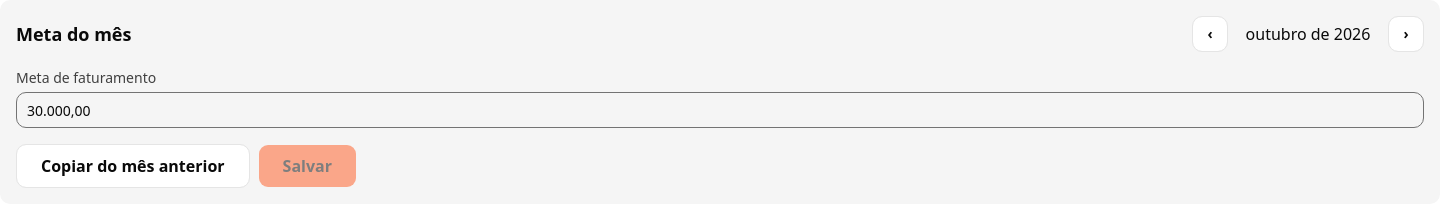
Test case: SecaoMeta › navega para novembro (sem meta) e mostra vazio
Click the button named "próximo mês".
click(1406, 34)  # box [1388,16,1424,52]
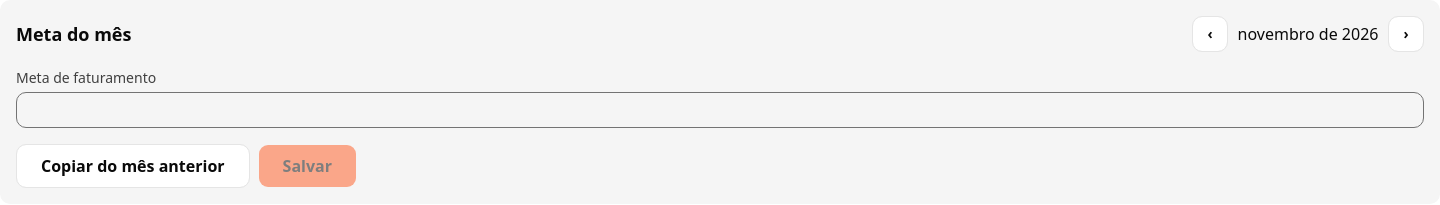
Result: the text "novembro de 2026" is shown at [1236,22,1380,46]
Result: the field labelled "Meta de faturamento" is empty at [16,92,1424,128]
